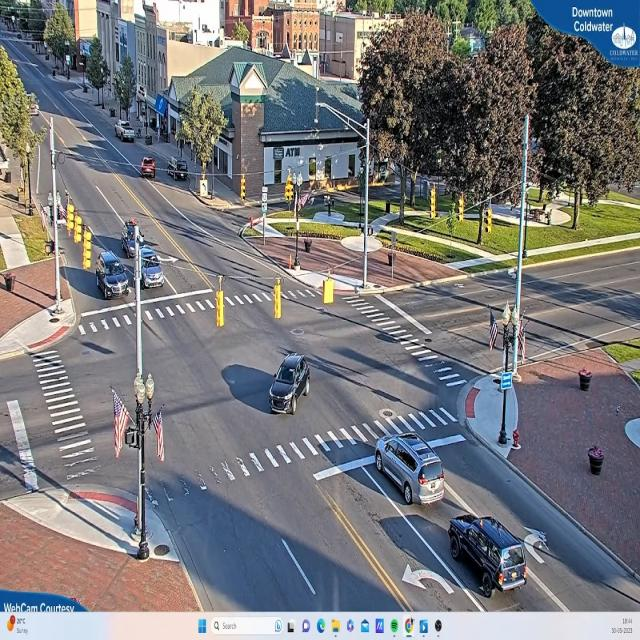car: (449, 515, 532, 595), (373, 432, 445, 506), (268, 343, 310, 416), (94, 250, 130, 304), (141, 246, 164, 294), (117, 122, 137, 144), (140, 157, 155, 179)
